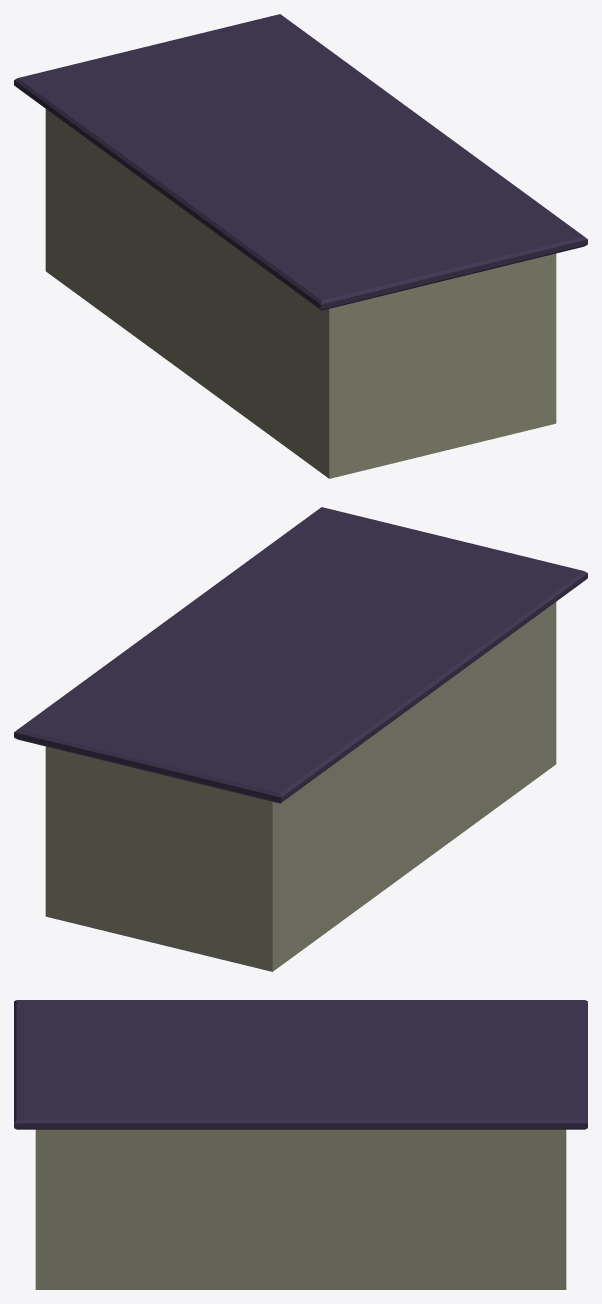
The model's file is lvl1_kitchen_isle.fbx.
3 views of the same model, one above another, from view 1: azimuth 30°, elevation 25°; view 2: azimuth 150°, elevation 25°; view 3: azimuth 270°, elevation 25° (orthographic). The views are drawn at different scales.
Visible parts, largest first — view 1: Kitcher_isle, pCube28; view 2: Kitcher_isle, pCube28; view 3: Kitcher_isle, pCube28.
Part boxes in pixels (x1,y1,x2,y2): Kitcher_isle: [45, 109, 556, 478]; pCube28: [14, 14, 587, 310]; Kitcher_isle: [45, 602, 556, 971]; pCube28: [14, 507, 587, 803]; Kitcher_isle: [35, 1129, 566, 1289]; pCube28: [14, 1000, 587, 1129].
Size of the model in its own units: 16.8 by 11.43 by 33.38.
